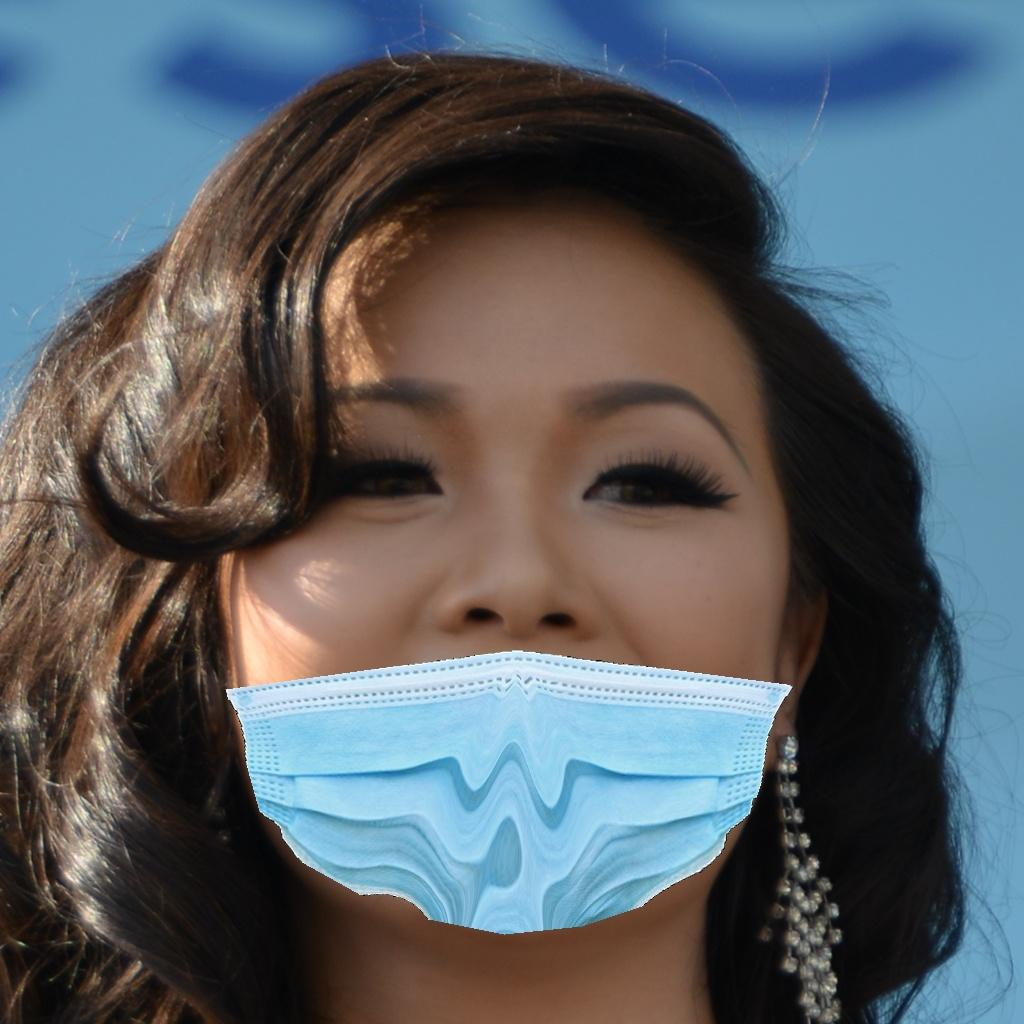Máscara Incorreta: (215, 304, 794, 935)
